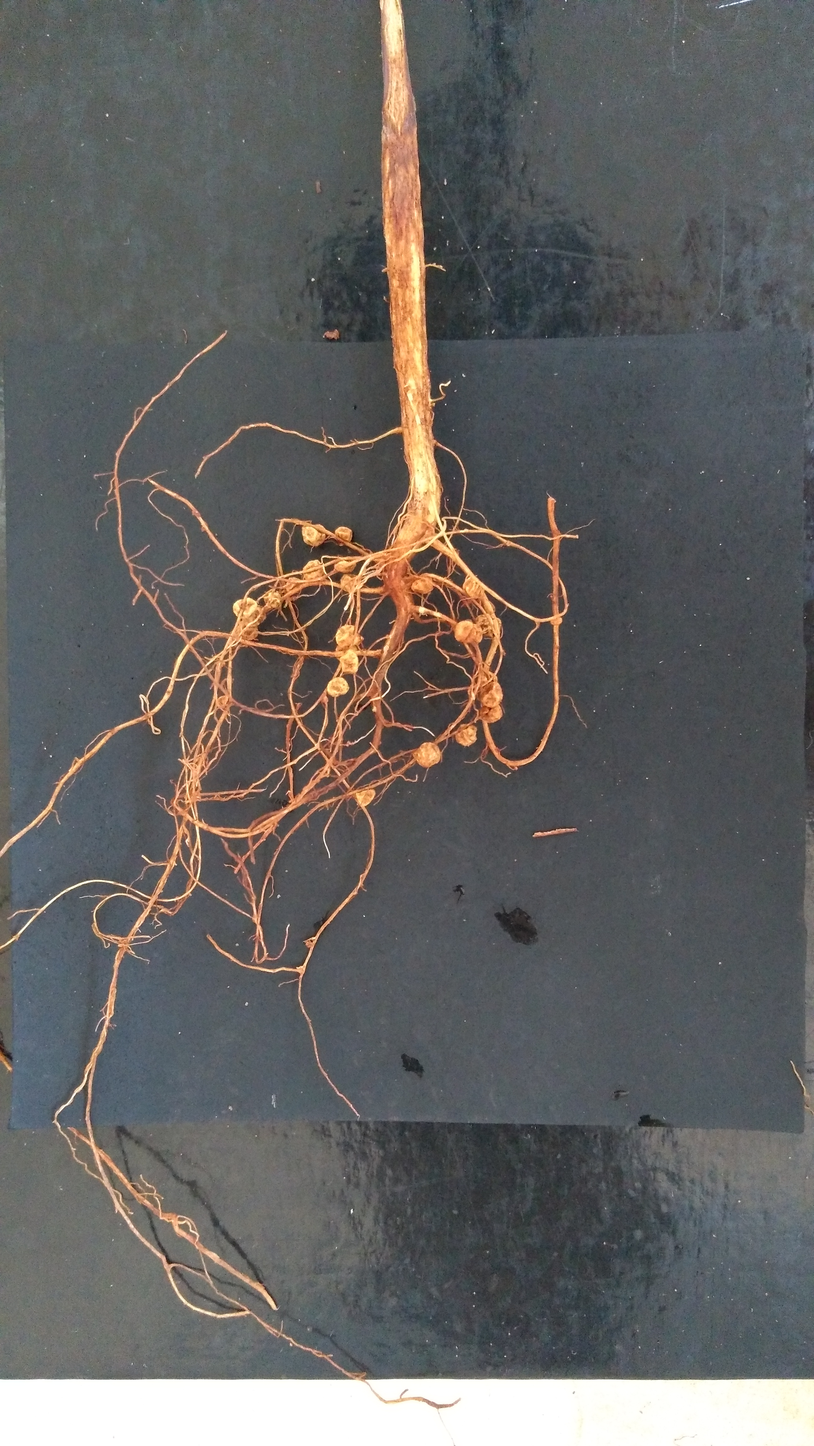nodule: (412, 742, 441, 768), (480, 681, 503, 708), (455, 620, 482, 643), (336, 625, 364, 647), (475, 615, 501, 637), (455, 724, 477, 747), (302, 524, 325, 546), (233, 598, 257, 619), (463, 577, 484, 599), (244, 605, 266, 626), (326, 677, 348, 697), (302, 560, 324, 580), (340, 649, 358, 673), (479, 705, 503, 723), (236, 622, 258, 640), (341, 573, 362, 591), (335, 526, 353, 546), (356, 789, 376, 806), (336, 644, 357, 660), (411, 579, 434, 593), (286, 578, 302, 597), (263, 591, 281, 607), (334, 560, 356, 573), (217, 696, 230, 709), (550, 617, 562, 624), (321, 696, 329, 703), (305, 941, 312, 947)
